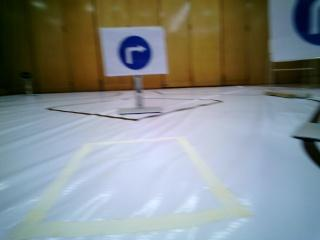right: (100, 26, 169, 74)
